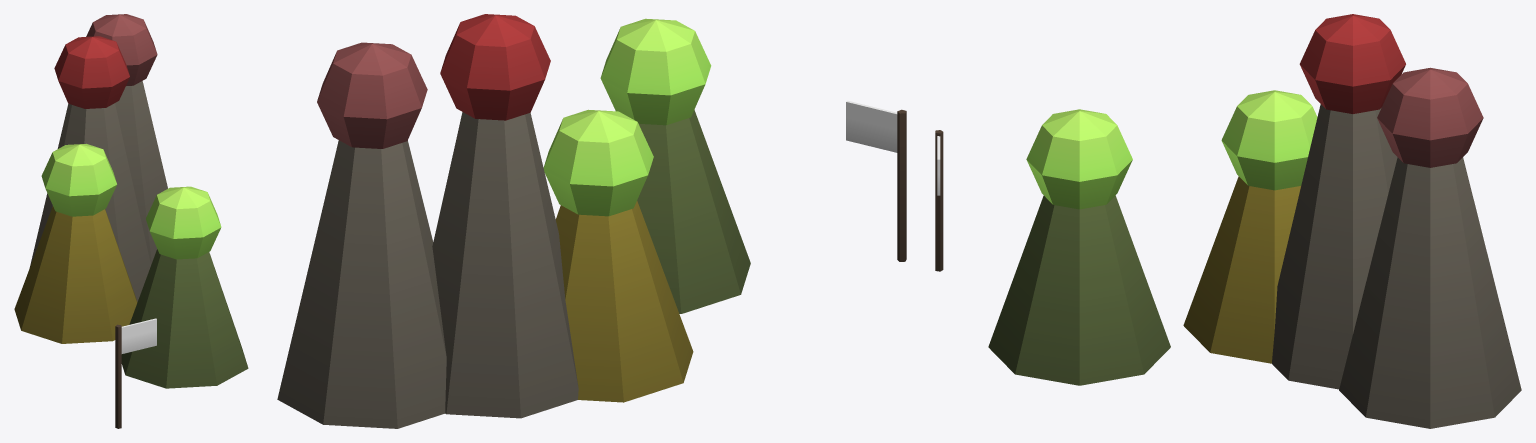
The model's file is OFF_BLD4.glb.
The picture shows the model from 3 angles, left to right: view 1: azimuth 30°, elevation 25°; view 2: azimuth 150°, elevation 25°; view 3: azimuth 270°, elevation 25°; orthographic projection. The views are drawn at different scales.
Parts seen in each view (by area): view 1: Body, Flag; view 2: Body, Flag; view 3: Body.
Boxes of the visible parts, x1=… form: Body: x1=14, y1=14, x2=248, y2=428; Flag: x1=121, y1=318, x2=156, y2=353; Body: x1=277, y1=14, x2=906, y2=428; Flag: x1=846, y1=100, x2=897, y2=152; Body: x1=935, y1=14, x2=1521, y2=428.
Size of the model in its own units: 2.5 by 2.44 by 3.85.
Materials: 1 (1 with a texture image).
